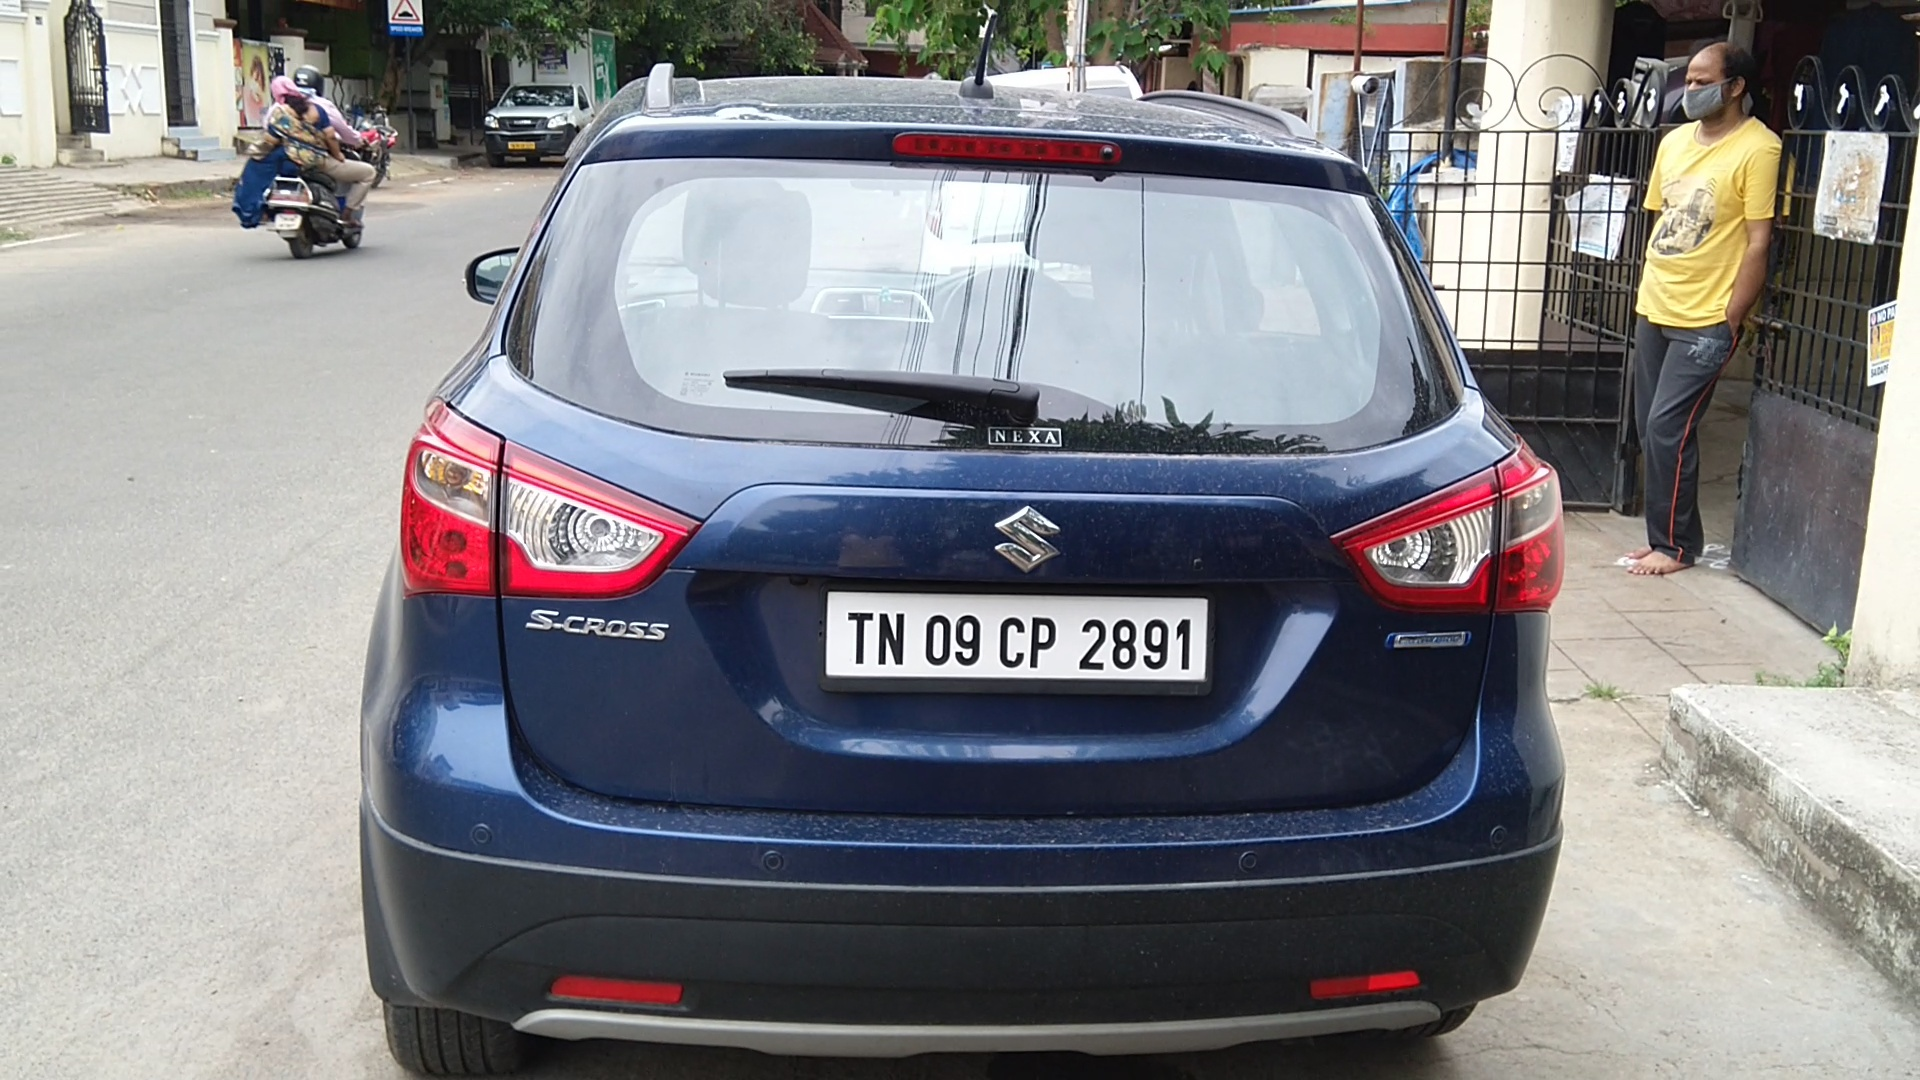rear_camera: (1097, 135, 1124, 171)
shvs: (1379, 618, 1494, 669)
